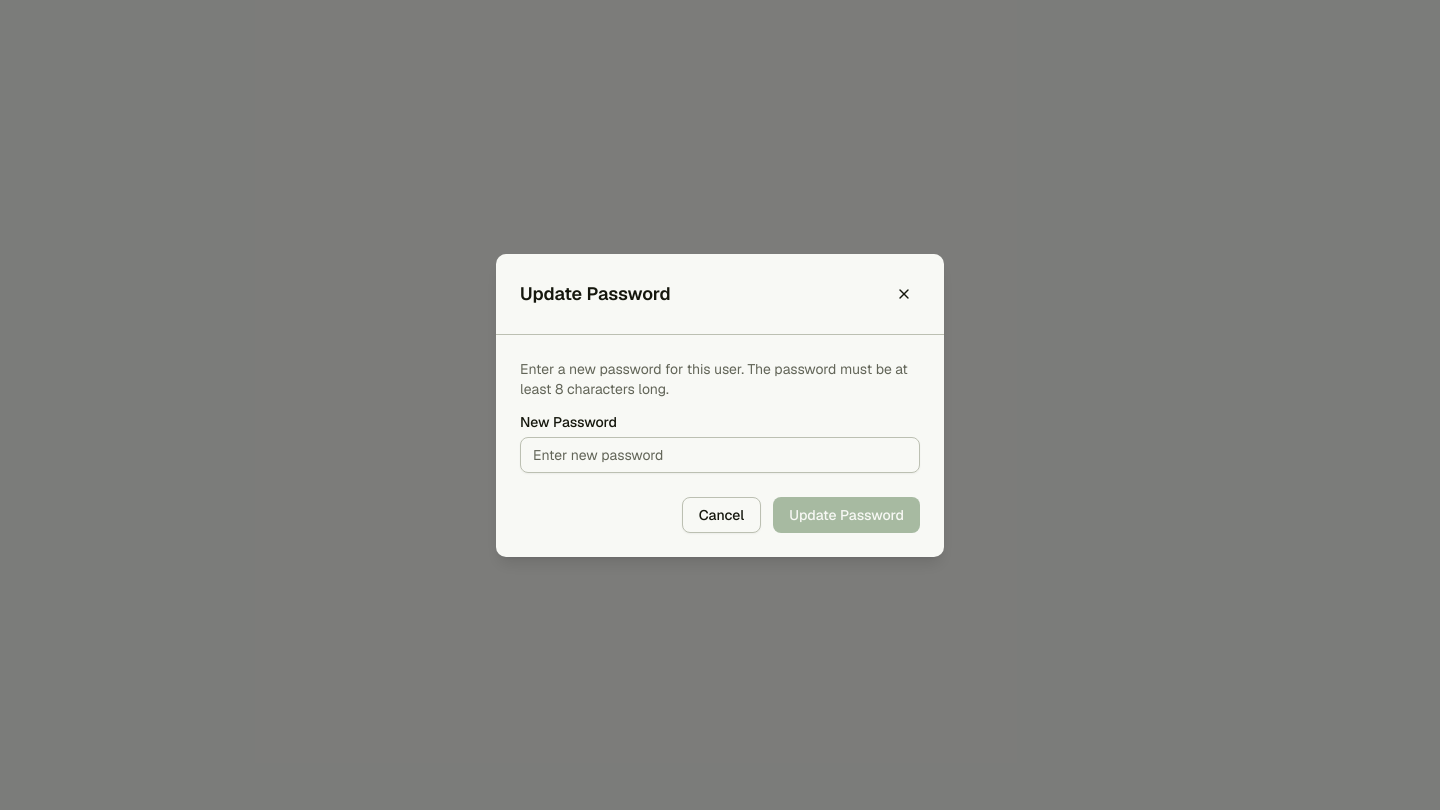
Test case: PasswordUpdateModal › Loading state › shows loading text during submission
Type "newpassword123" into the password field labelled "New Password" at (720, 454), box [520,436,920,472]
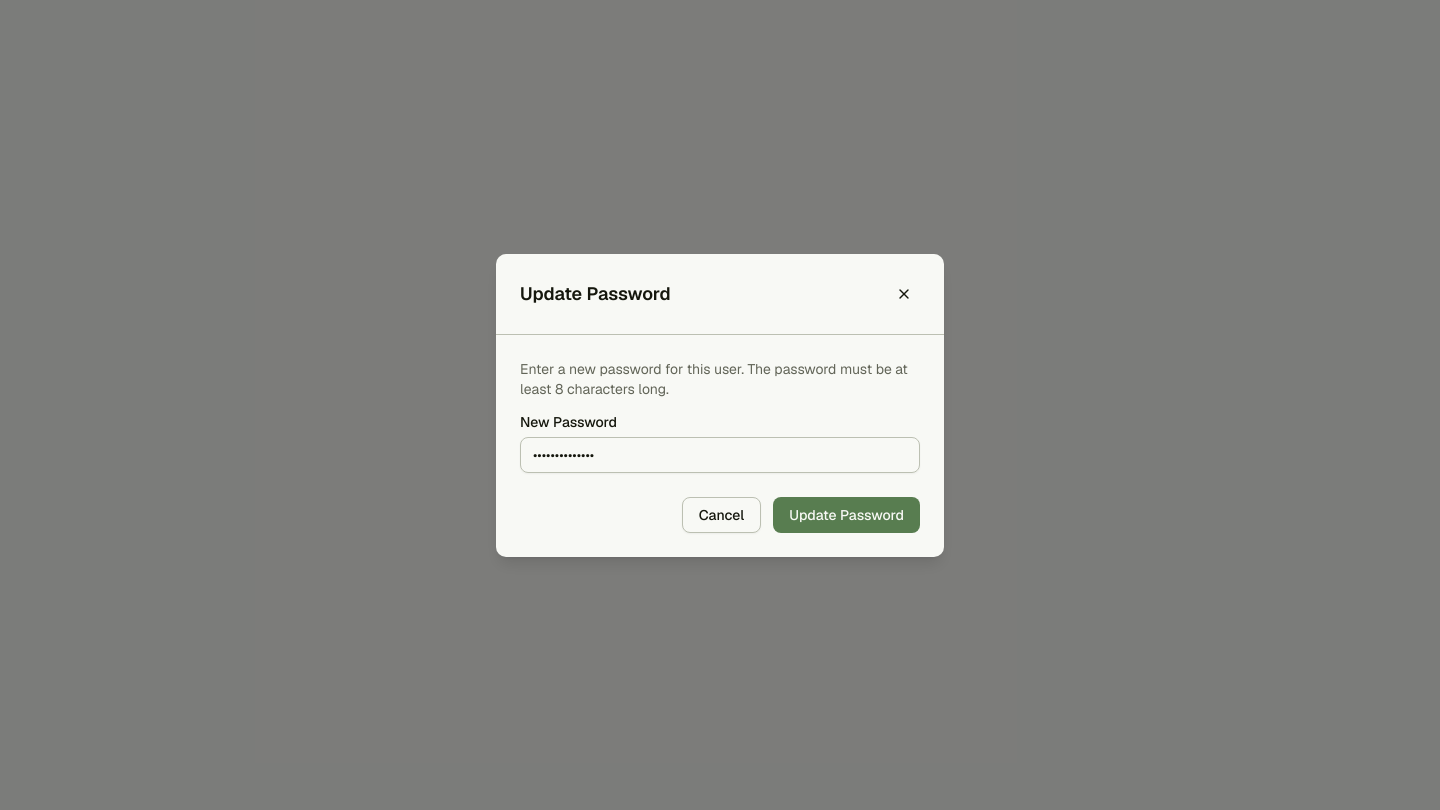
Click the button "Update Password" at (847, 514), box [773,496,920,532]
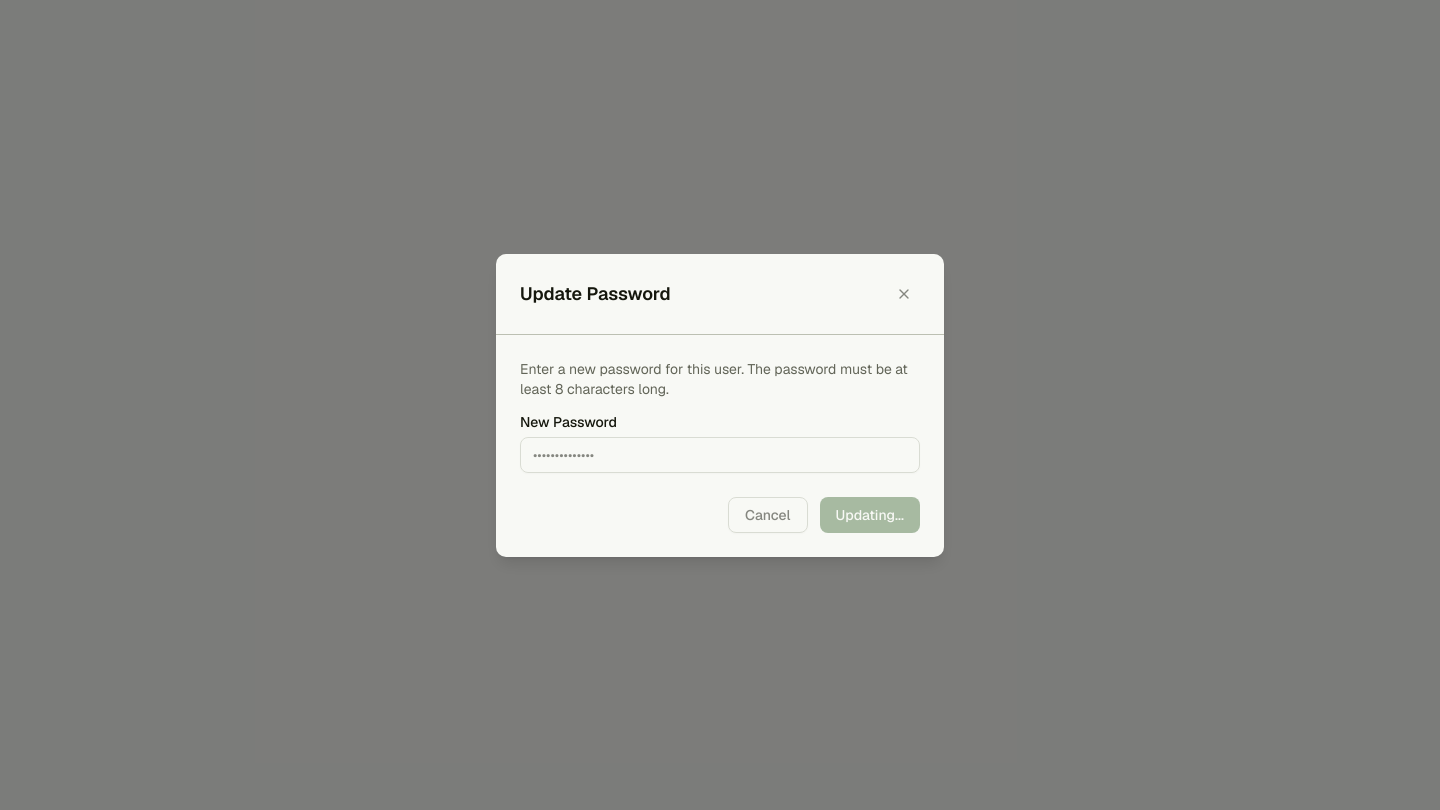
Now the button "Updating..." is shown, box [820,496,920,532]
